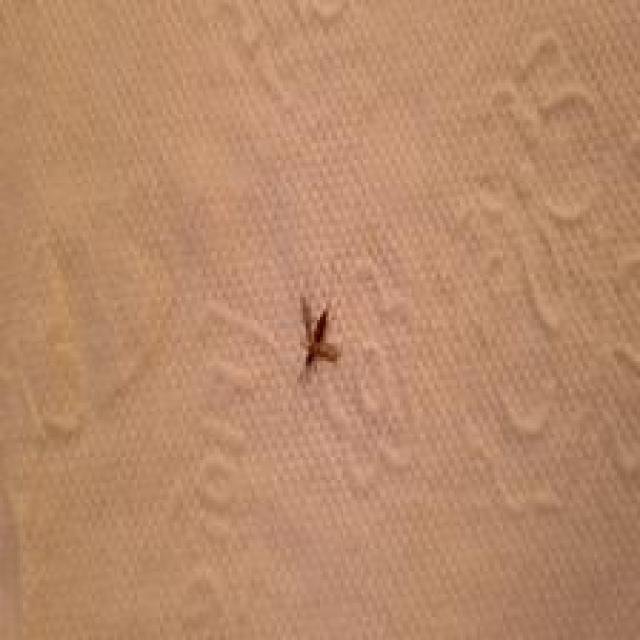Culex: (294, 294, 340, 380)
